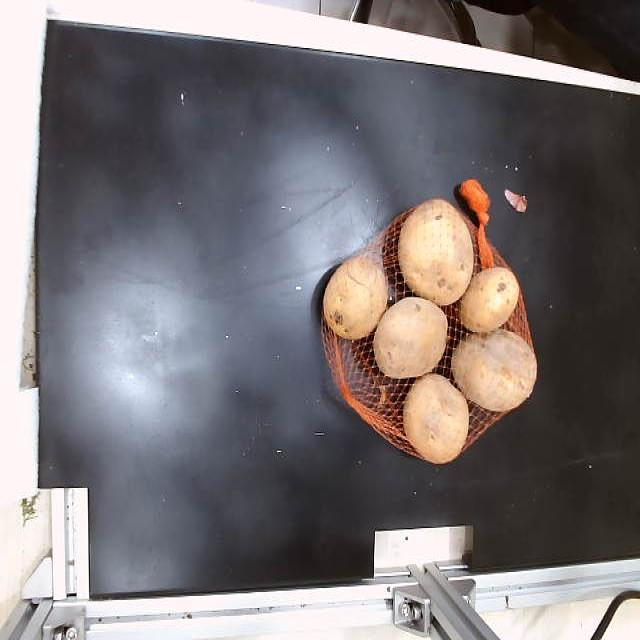potato: (398, 198, 474, 306), (451, 328, 536, 412), (374, 297, 448, 378), (404, 373, 468, 463), (324, 255, 388, 339), (461, 270, 520, 332)
